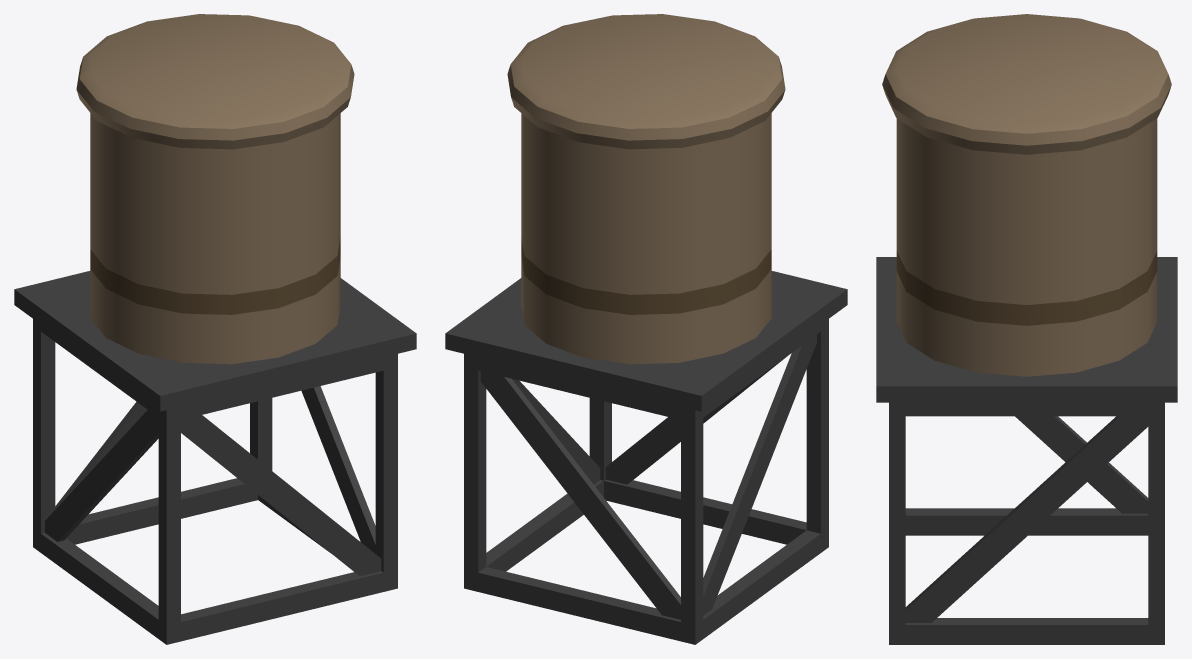
The model's file is Prop_RoofWaterStore_01.fbx.
3 renders of one model, left to right at view 1: azimuth 30°, elevation 25°; view 2: azimuth 150°, elevation 25°; view 3: azimuth 270°, elevation 25°, orthographic. The views are drawn at different scales.
Parts seen in each view (by area): view 1: Prop_RoofWaterStore_01; view 2: Prop_RoofWaterStore_01; view 3: Prop_RoofWaterStore_01.
Boxes of the visible parts, x1,y1,x2,y2 form: Prop_RoofWaterStore_01: (14,14,416,644); Prop_RoofWaterStore_01: (445,14,847,644); Prop_RoofWaterStore_01: (876,14,1177,644).
Size of the model in its own units: 137 by 256 by 135.
